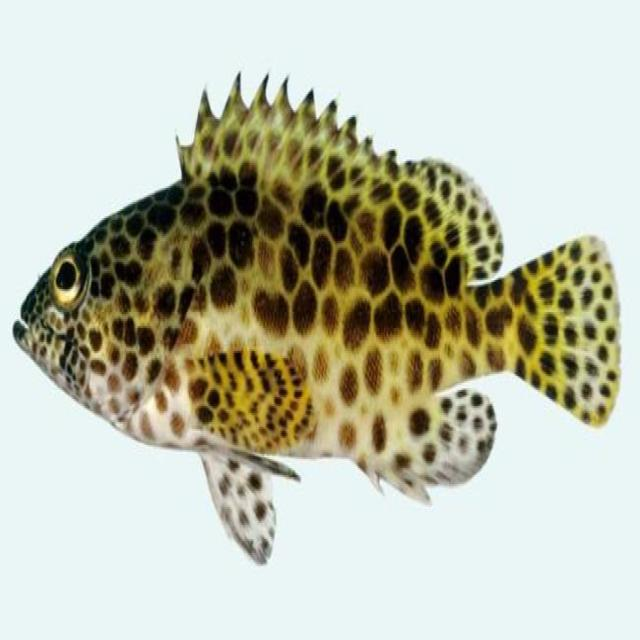ikan: (8, 46, 627, 586)
